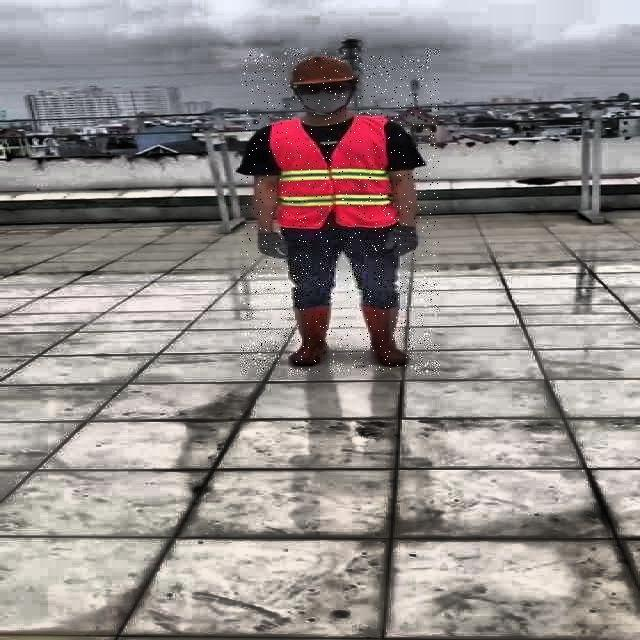safety_helmet: (284, 54, 359, 86)
safety_jacket: (268, 117, 400, 229)
